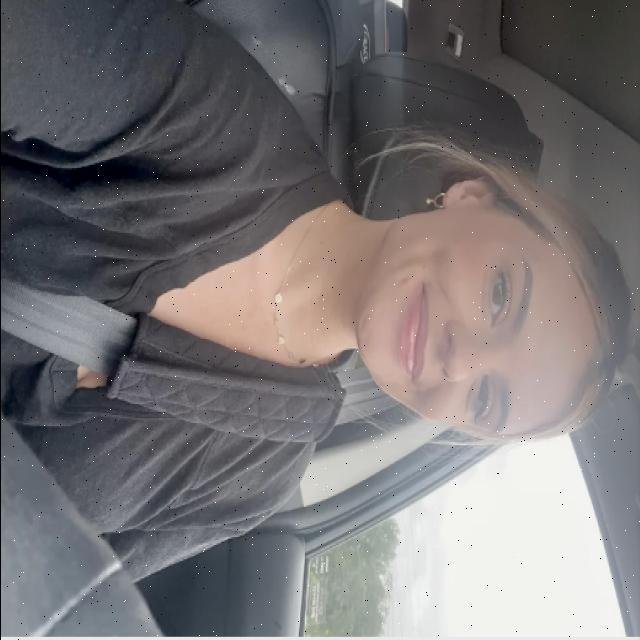face_no_mask: (360, 175, 587, 445)
